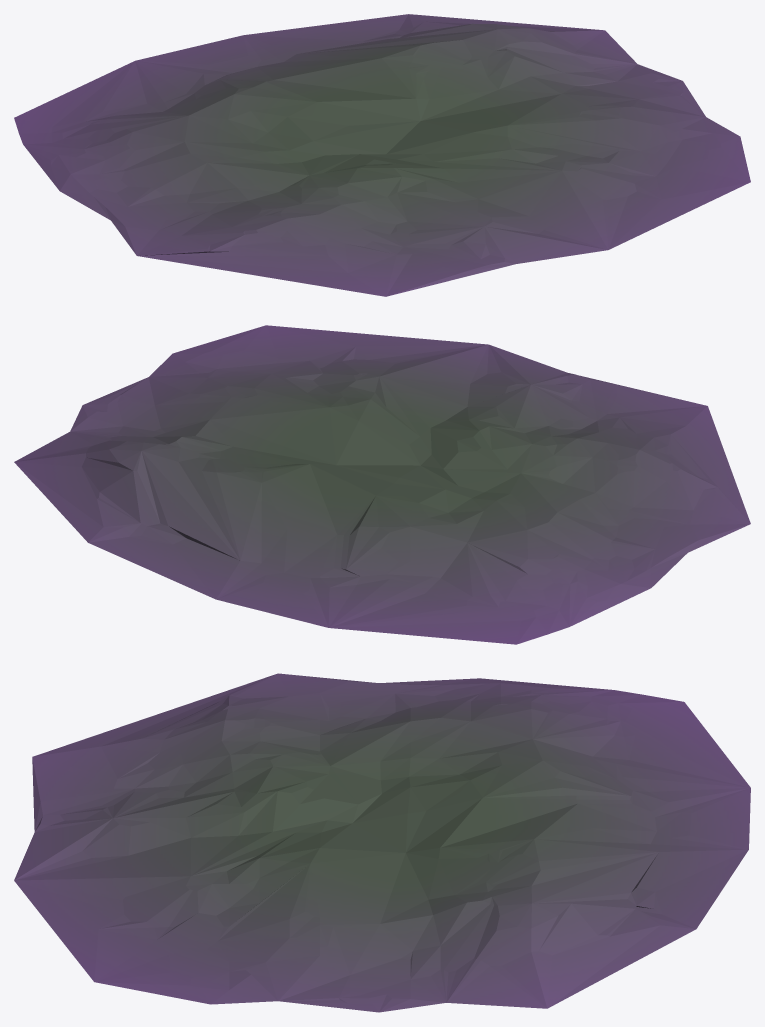
The model's file is Night_Ground_002.FBX.
The picture shows the model from 3 angles, top to bottom: view 1: azimuth 30°, elevation 25°; view 2: azimuth 150°, elevation 25°; view 3: azimuth 270°, elevation 25°; orthographic projection. The views are drawn at different scales.
Parts seen in each view (by area): view 1: Night_Ground_002; view 2: Night_Ground_002; view 3: Night_Ground_002.
Part boxes in pixels (x1,y1,x2,y2): Night_Ground_002: (14,14,750,296); Night_Ground_002: (14,325,750,644); Night_Ground_002: (14,673,750,1012).
Size of the model in its own units: 5976 by 326 by 5489.
Materials: 1 (1 with a texture image).
